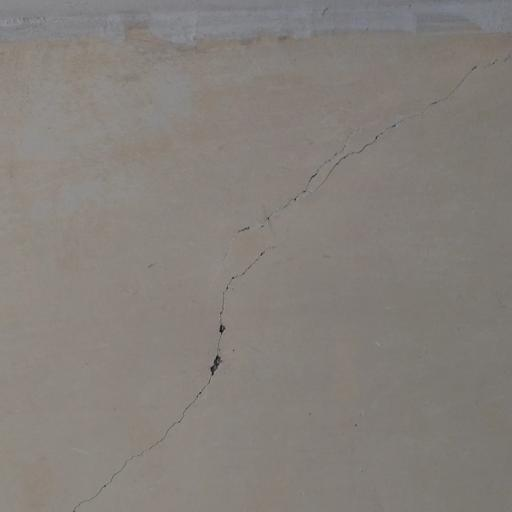minor_crack: (67, 34, 512, 512)
